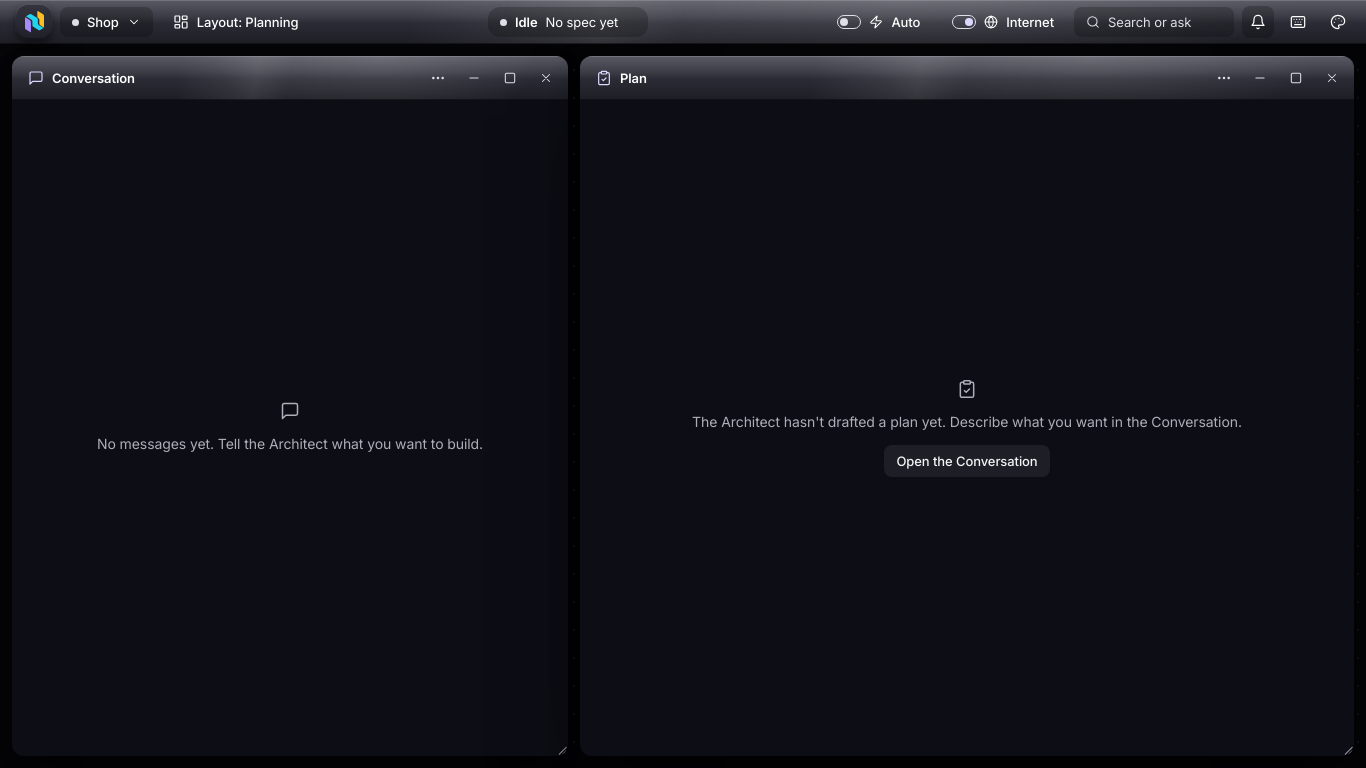
Test case: moldura em inglês: erros dos interruptores › falha ao desligar a Internet: o alerta da barra traz a frase inteira com a mensagem do servidor
Click the switch named "Architect can use the internet". click: (1003, 22)
box: [940, 7, 1066, 37]
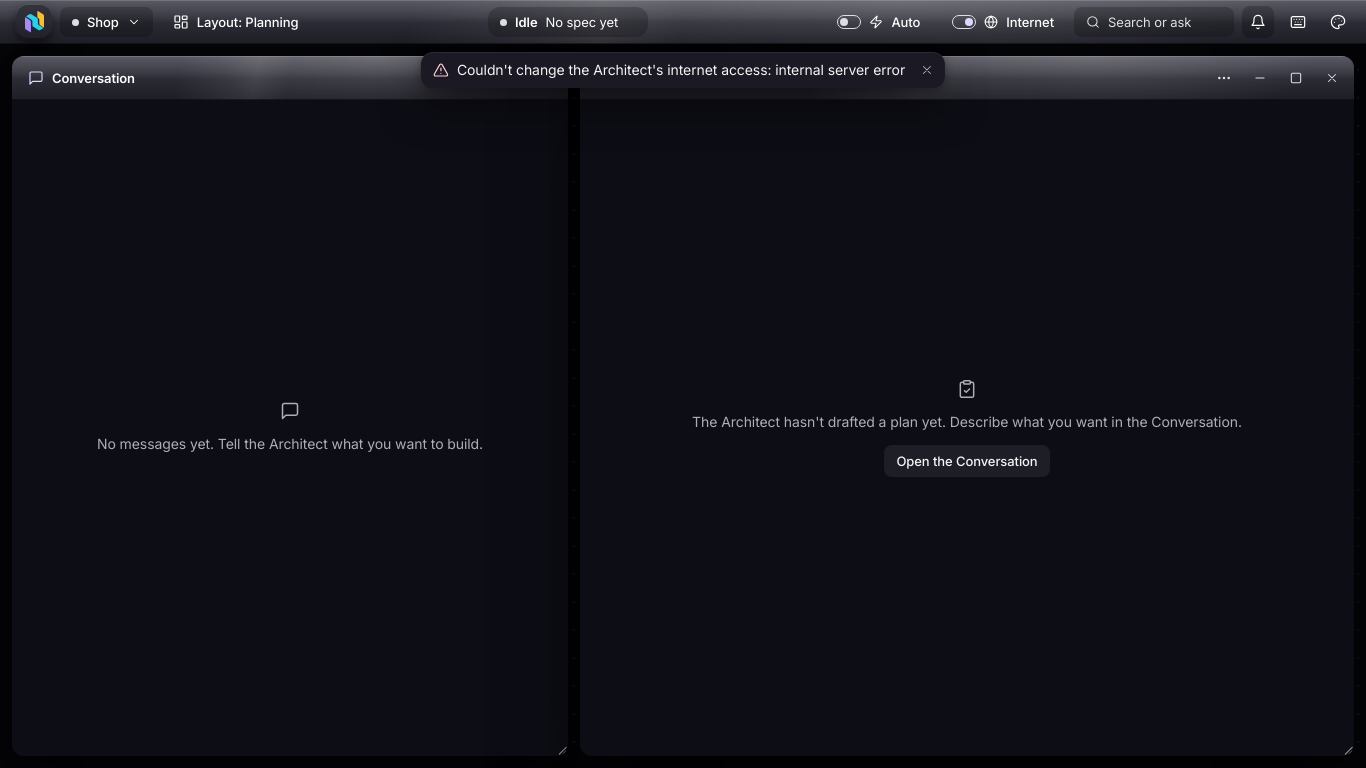
Now the text with class "nd-bar-alert-text" reads "Couldn't change the Architect's internet access: internal server error", box [457, 61, 905, 78]
